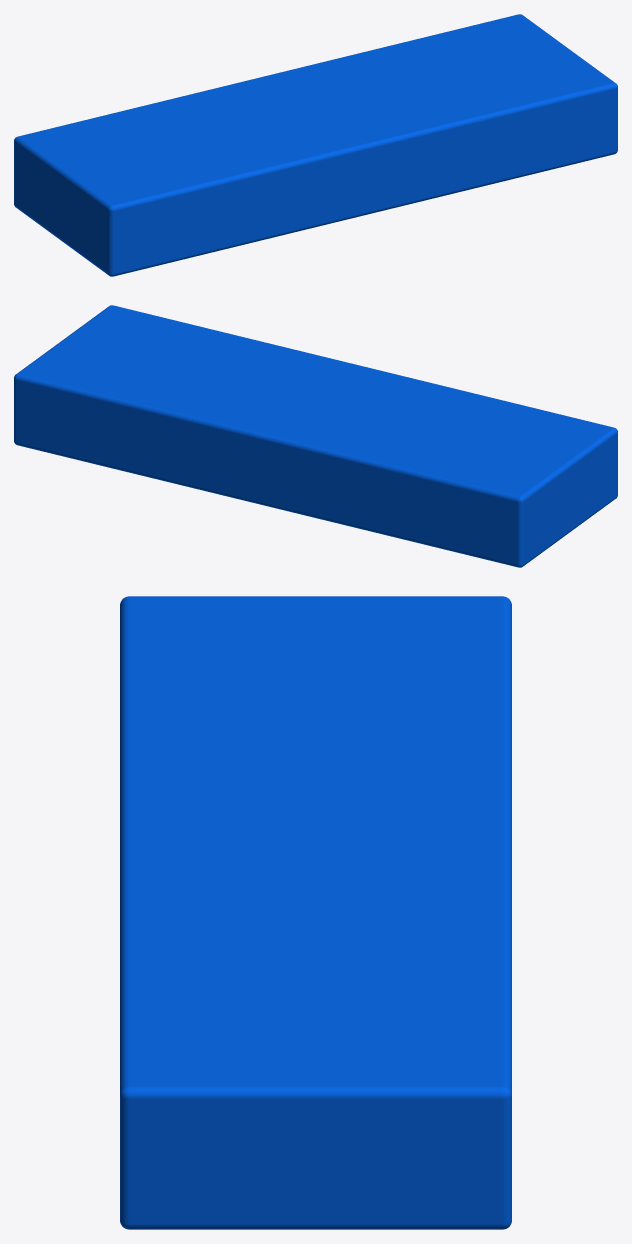
The model's file is spawnBlock15x5.blend.glb.
3 renders of one model, top to bottom at view 1: azimuth 30°, elevation 25°; view 2: azimuth 150°, elevation 25°; view 3: azimuth 270°, elevation 25°, orthographic. The views are drawn at different scales.
Visible parts, largest first — view 1: Cube; view 2: Cube; view 3: Cube.
Part boxes in pixels (box(x1,y1,x2,y2)): Cube: box(14, 14, 617, 276); Cube: box(14, 305, 617, 567); Cube: box(120, 596, 511, 1229).
Bounding box in the file's own units: 15 × 2 × 5.
